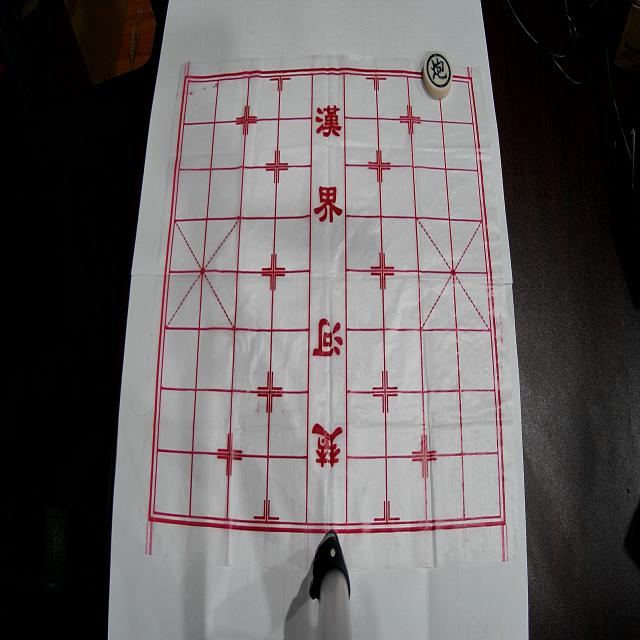black-cannon: (423, 51, 453, 98)
